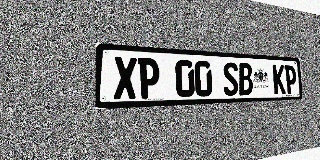0: (175, 59, 195, 97), (194, 60, 212, 97)
B: (238, 63, 253, 95)
K: (272, 64, 286, 94)
P: (138, 58, 160, 99), (284, 65, 297, 94)
S: (223, 62, 239, 96)
X: (113, 56, 137, 99)
